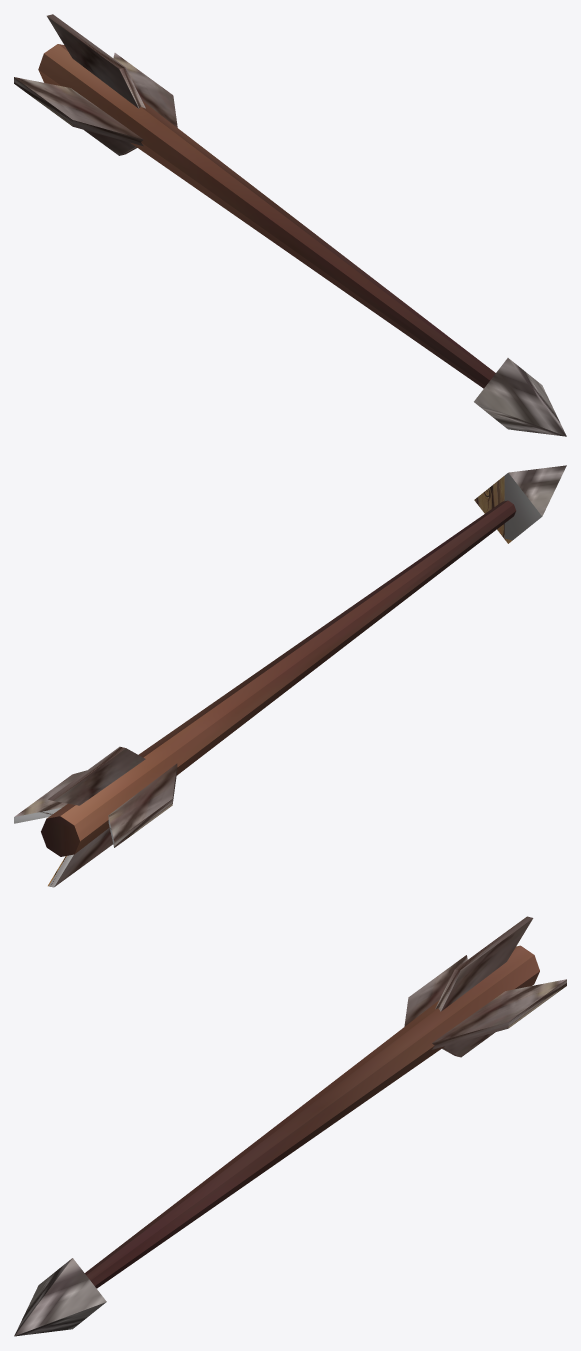
The model's file is Arrow.fbx.
The picture shows the model from 3 angles, top to bottom: view 1: azimuth 30°, elevation 25°; view 2: azimuth 150°, elevation 25°; view 3: azimuth 330°, elevation 25°; orthographic projection.
Visible parts, largest first — view 1: arrow; view 2: arrow; view 3: arrow.
Part boxes in pixels (x1=…): arrow: x1=14, y1=14, x2=566, y2=436; arrow: x1=14, y1=465, x2=566, y2=887; arrow: x1=14, y1=916, x2=566, y2=1336.
Bounding box in the file's own units: 12.69 × 10.48 × 113.
